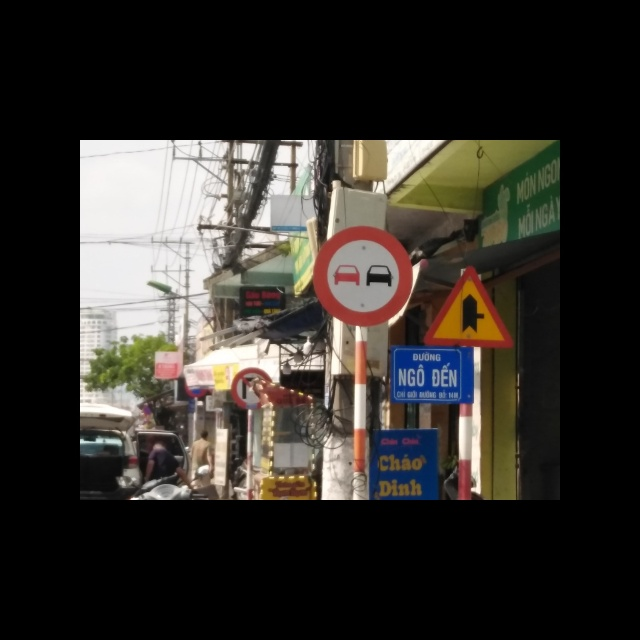Cấm vượt: (313, 222, 416, 325)
Giao nhau với đường không ưu tiên: (423, 263, 515, 349)
